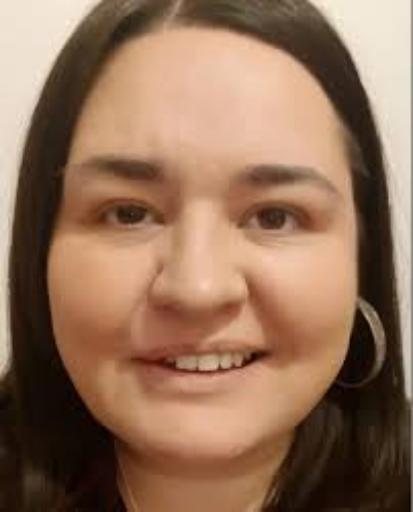left_eye: (239, 204, 314, 239)
left_lip_corner: (255, 340, 281, 369)
right_eye: (95, 202, 165, 233)
right_lip_corner: (120, 347, 155, 375)
